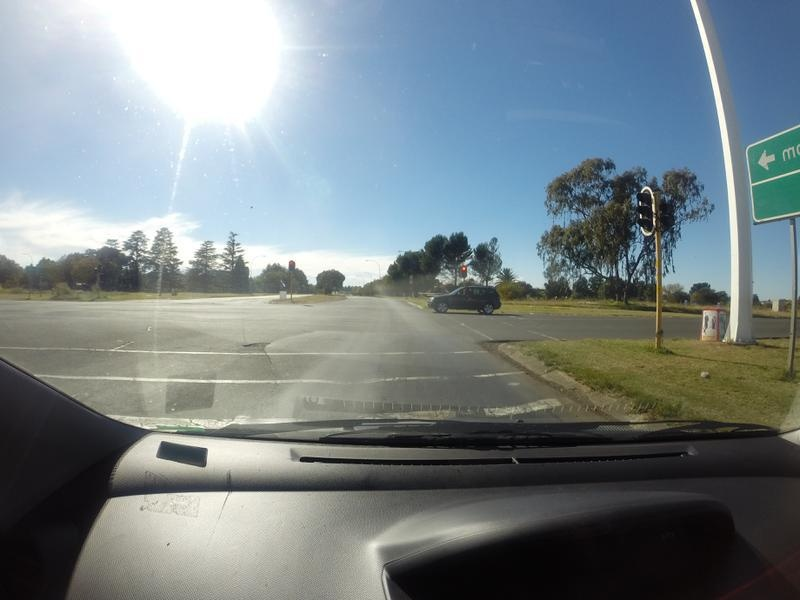pothole: (236, 342, 271, 352)
